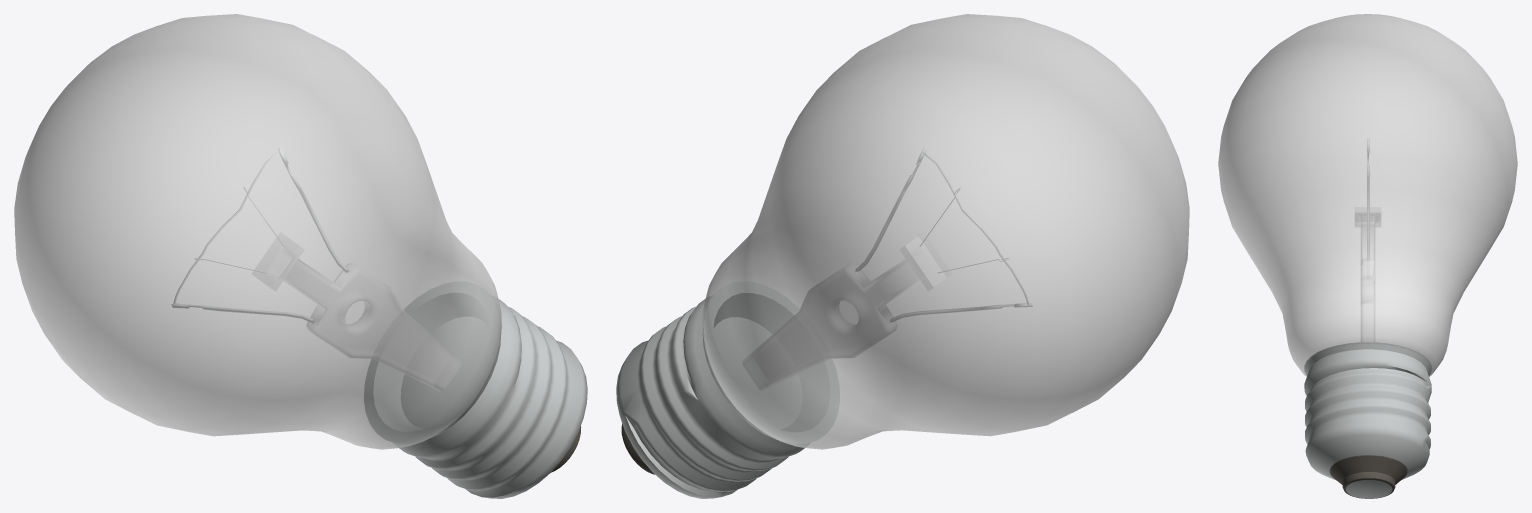
File: lightbulb_low-poly.glb
3 renders of one model, left to right at view 1: azimuth 30°, elevation 25°; view 2: azimuth 150°, elevation 25°; view 3: azimuth 270°, elevation 25°, orthographic. The views are drawn at different scales.
Parts seen in each view (by area): view 1: lamp, Circle, Cube.001, Cylinder.004; view 2: lamp, Circle, Cube.001, Cylinder.004; view 3: lamp, Circle, Cube.001, Cylinder.004.
Part boxes in pixels (x1,y1,x2,y2): lamp: (14, 14, 501, 449); Circle: (364, 281, 587, 498); Cube.001: (252, 232, 461, 390); Cylinder.004: (171, 149, 349, 323); lamp: (702, 14, 1189, 449); Circle: (616, 281, 839, 498); Cube.001: (742, 232, 951, 390); Cylinder.004: (855, 148, 1032, 322); lamp: (1218, 14, 1517, 376); Circle: (1304, 342, 1431, 498); Cube.001: (1355, 207, 1380, 341); Cylinder.004: (1367, 138, 1370, 278).
Size of the model in its own units: 4.1 by 3.82 by 2.82.
Materials: 4 (4 with a texture image).
